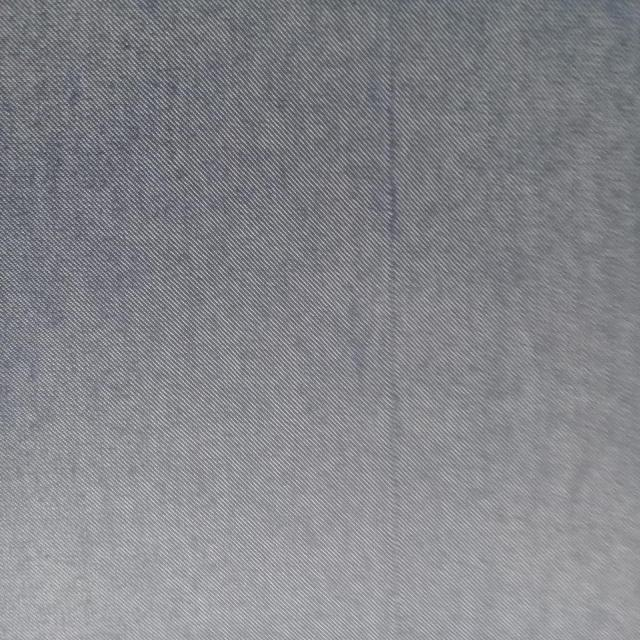Line: (382, 0, 400, 640)
